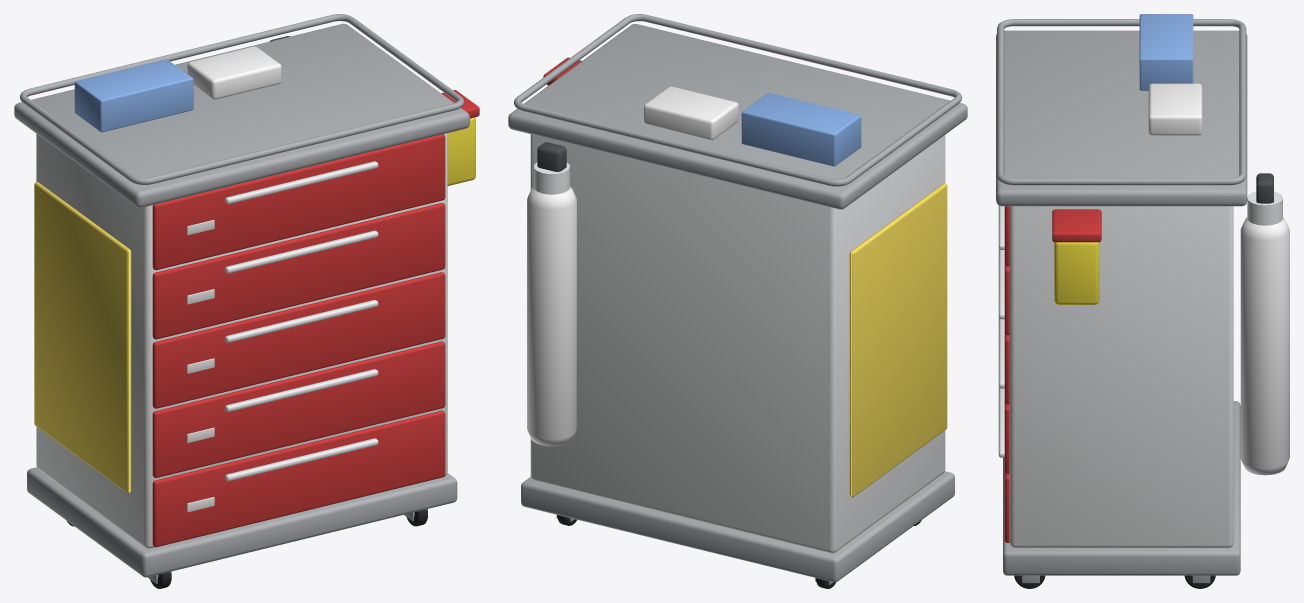
File: chariot_pharmacie.glb
3 views of the same model, side by side, from view 1: azimuth 30°, elevation 25°; view 2: azimuth 150°, elevation 25°; view 3: azimuth 270°, elevation 25° (orthographic).
Visible parts, largest first — view 1: chariot_pharmacie; view 2: chariot_pharmacie; view 3: chariot_pharmacie.
Boxes of the visible parts, x1,y1,x2,y2 form: chariot_pharmacie: (14,14,479,588); chariot_pharmacie: (508,14,967,588); chariot_pharmacie: (996,14,1289,588).
Size of the model in its own units: 0.955 by 1.1 by 0.655.
